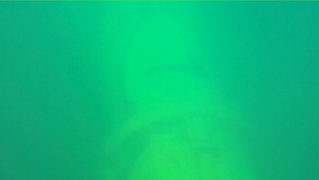1: (142, 54, 208, 80)
pipe: (95, 1, 255, 179)
